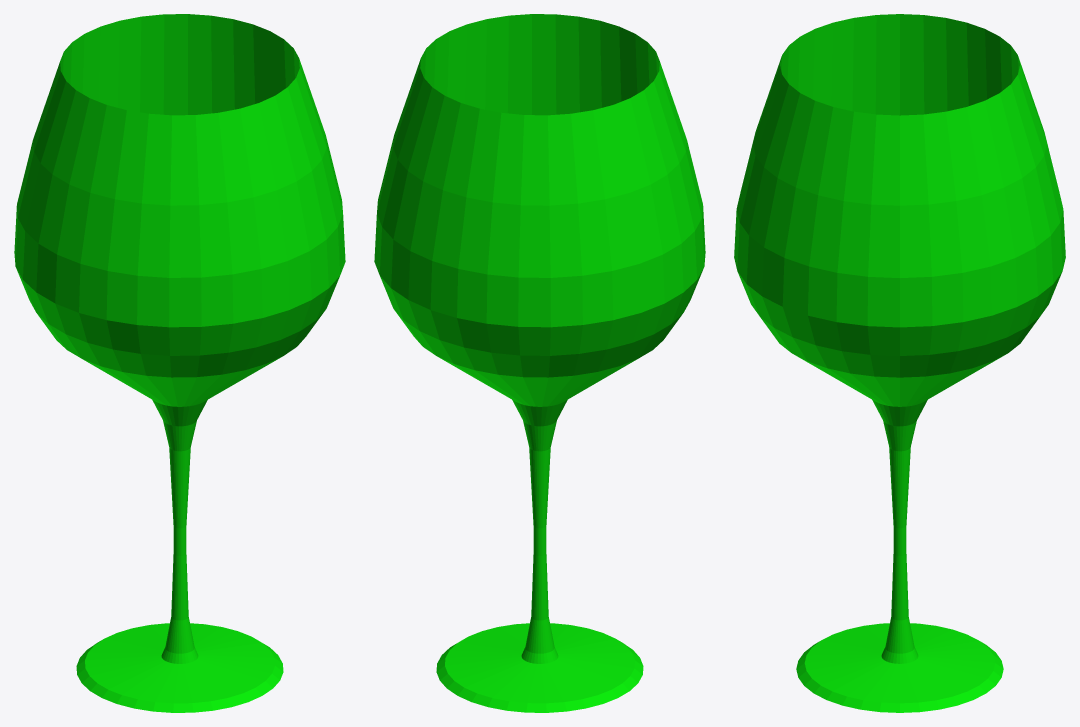
File: Glass_Trash.fbx
3 views of the same model, side by side, from view 1: azimuth 30°, elevation 25°; view 2: azimuth 150°, elevation 25°; view 3: azimuth 270°, elevation 25° (orthographic).
Visible parts, largest first — view 1: Glass_Cup; view 2: Glass_Cup; view 3: Glass_Cup.
Boxes of the visible parts, bbox=[...] form: Glass_Cup: bbox=[14, 14, 345, 712]; Glass_Cup: bbox=[374, 14, 705, 712]; Glass_Cup: bbox=[734, 14, 1065, 712].
Bounding box in the file's own units: 139 × 279 × 139.
